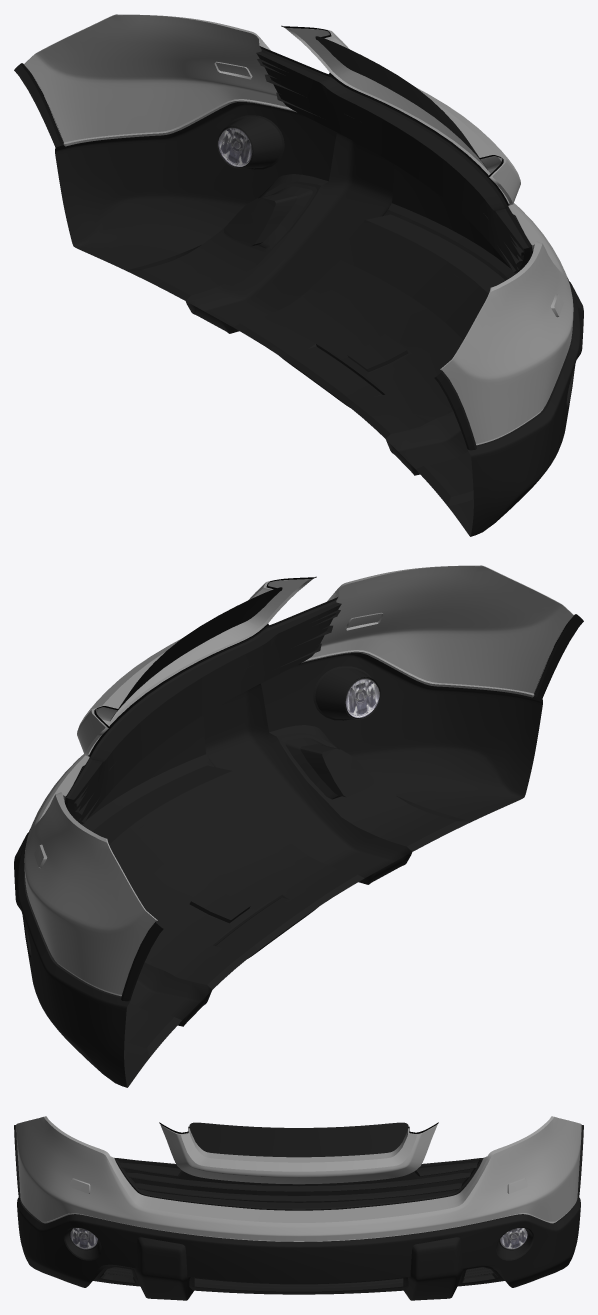
3 views of the same model, one above another, from view 1: azimuth 30°, elevation 25°; view 2: azimuth 150°, elevation 25°; view 3: azimuth 270°, elevation 25° (orthographic). The views are drawn at different scales.
Parts seen in each view (by area): view 1: H812_021G_C_H812_021G_C_1_D, H812_021G_C_H812_021G_C_5_DaS, H812_021G_C_H812_021G_C_1_D_E, H812_021G_C_H812_021G_C_3_D, H812_021G_C_H812_021G_C_5_DaS_E, H812_021G_C_H812_021G_C_6_N; view 2: H812_021G_C_H812_021G_C_1_D, H812_021G_C_H812_021G_C_5_DaS, H812_021G_C_H812_021G_C_1_D_E, H812_021G_C_H812_021G_C_3_D, H812_021G_C_H812_021G_C_5_DaS_E, H812_021G_C_7_N_H812_021G_C; view 3: H812_021G_C_H812_021G_C_1_D, H812_021G_C_H812_021G_C_5_DaS, H812_021G_C_H812_021G_C_5_DaS_E, H812_021G_C_H812_021G_C_3_D, H812_021G_C_H812_021G_C_1_D_E, H812_021G_C_H812_021G_C_4_D, H812_021G_C_7_N_H812_021G_C, H812_021G_C_H812_021G_C_6_N.
Boxes of the visible parts, bbox=[...] form: H812_021G_C_H812_021G_C_1_D: bbox=[14, 46, 580, 536]; H812_021G_C_H812_021G_C_5_DaS: bbox=[24, 15, 573, 445]; H812_021G_C_H812_021G_C_1_D_E: bbox=[126, 132, 583, 504]; H812_021G_C_H812_021G_C_3_D: bbox=[223, 36, 488, 339]; H812_021G_C_H812_021G_C_5_DaS_E: bbox=[24, 14, 558, 369]; H812_021G_C_H812_021G_C_6_N: bbox=[218, 127, 252, 166]; H812_021G_C_H812_021G_C_1_D: bbox=[17, 597, 583, 1087]; H812_021G_C_H812_021G_C_5_DaS: bbox=[24, 566, 573, 996]; H812_021G_C_H812_021G_C_1_D_E: bbox=[14, 683, 464, 1057]; H812_021G_C_H812_021G_C_3_D: bbox=[109, 587, 374, 890]; H812_021G_C_H812_021G_C_5_DaS_E: bbox=[39, 565, 573, 920]; H812_021G_C_7_N_H812_021G_C: bbox=[345, 678, 379, 717]; H812_021G_C_H812_021G_C_1_D: bbox=[14, 1125, 583, 1294]; H812_021G_C_H812_021G_C_5_DaS: bbox=[16, 1117, 581, 1241]; H812_021G_C_H812_021G_C_5_DaS_E: bbox=[43, 1116, 554, 1222]; H812_021G_C_H812_021G_C_3_D: bbox=[108, 1122, 489, 1274]; H812_021G_C_H812_021G_C_1_D_E: bbox=[91, 1237, 506, 1300]; H812_021G_C_H812_021G_C_4_D: bbox=[121, 1166, 476, 1201]; H812_021G_C_7_N_H812_021G_C: bbox=[70, 1228, 97, 1249]; H812_021G_C_H812_021G_C_6_N: bbox=[500, 1228, 527, 1249].
Size of the model in its own units: 85.97 by 83.21 by 226.
